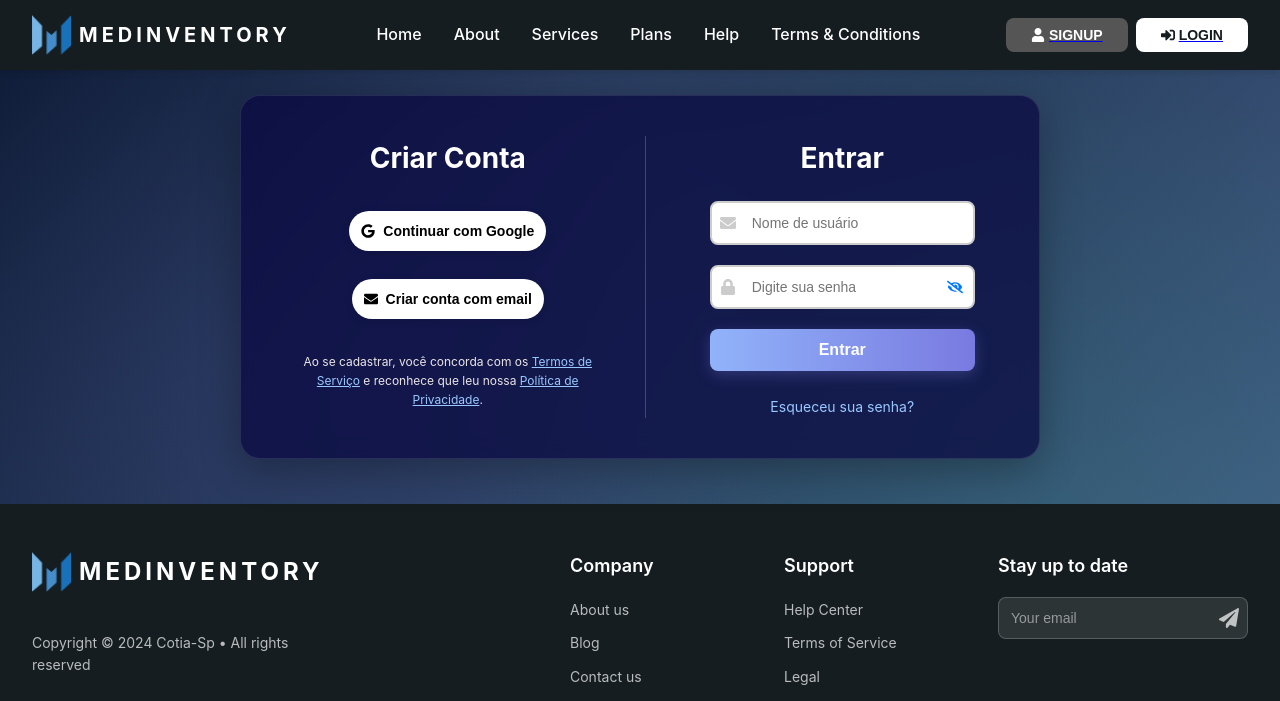
Scenario: Login Page › Interações do usuário › mostra senha ao clicar no ícone de olho
This screenshot has width=1280, height=701.
Type "password123" into the password field with placeholder "Digite sua senha" at (843, 287), box [710,265,975,309]
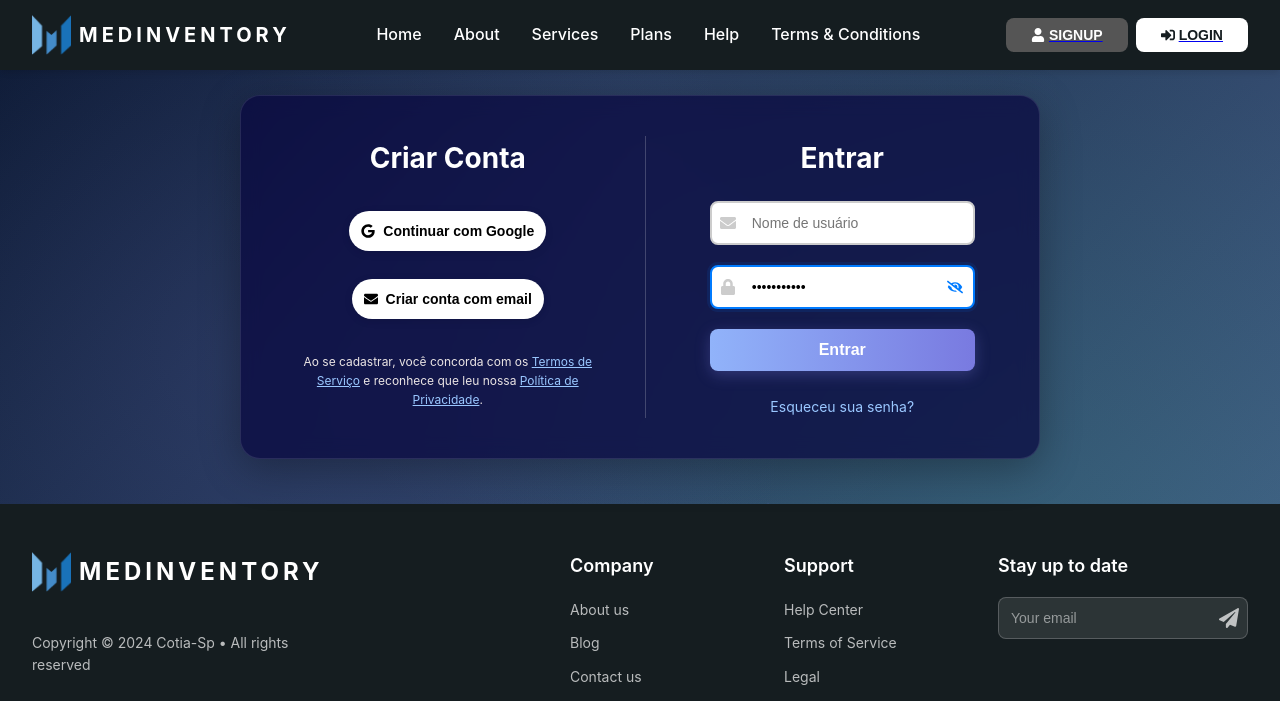
Click the icon with class "toggle-password" at (955, 287), box [947,279,963,295]
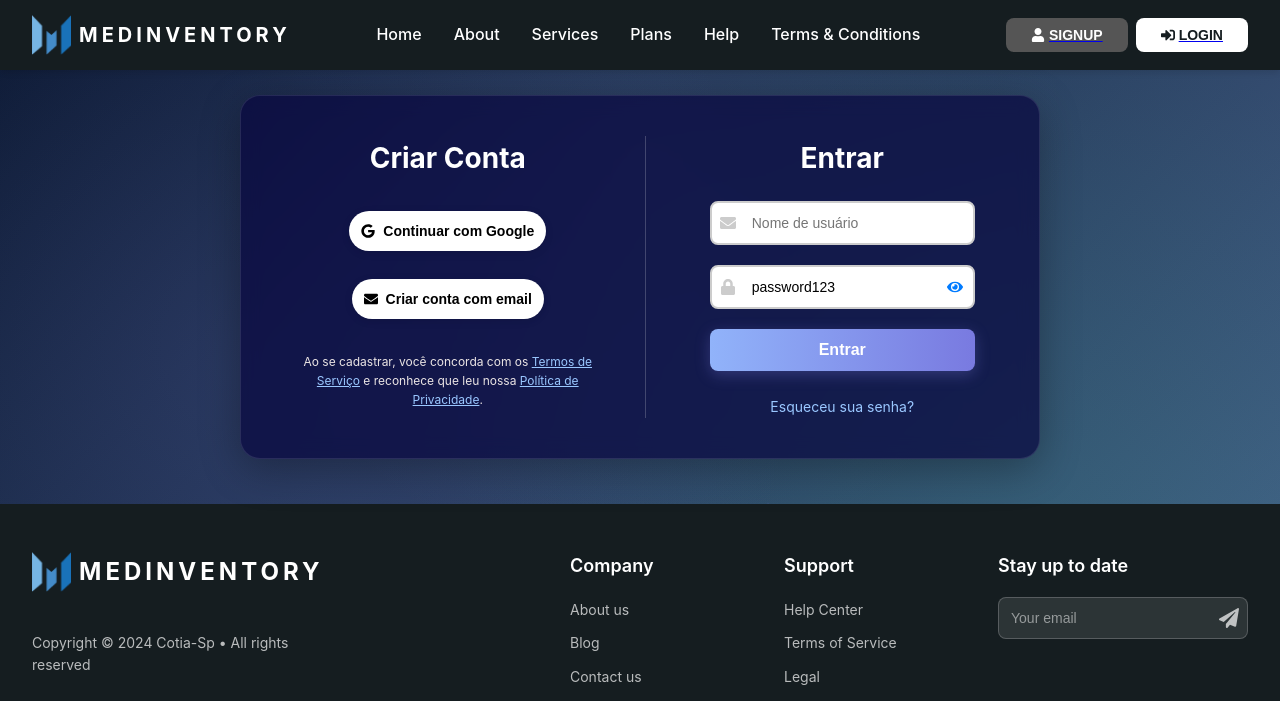
Result: the 2nd field shows its text at [710,265,975,309]
